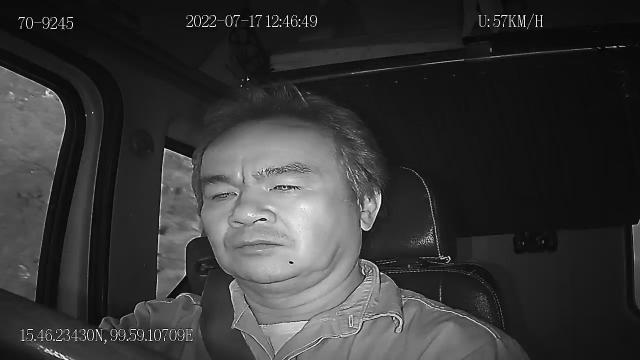SafeDriving: (200, 178, 243, 208), (262, 172, 311, 198)
Seatbelt: (198, 266, 258, 360)
